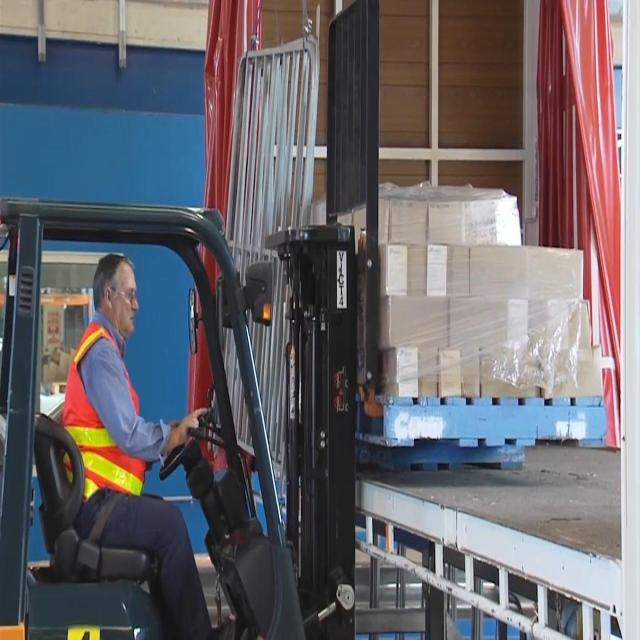box: (367, 173, 613, 415)
forklift: (3, 6, 396, 640)
pallets: (343, 379, 619, 456), (349, 414, 535, 484)
person: (32, 219, 241, 640)
